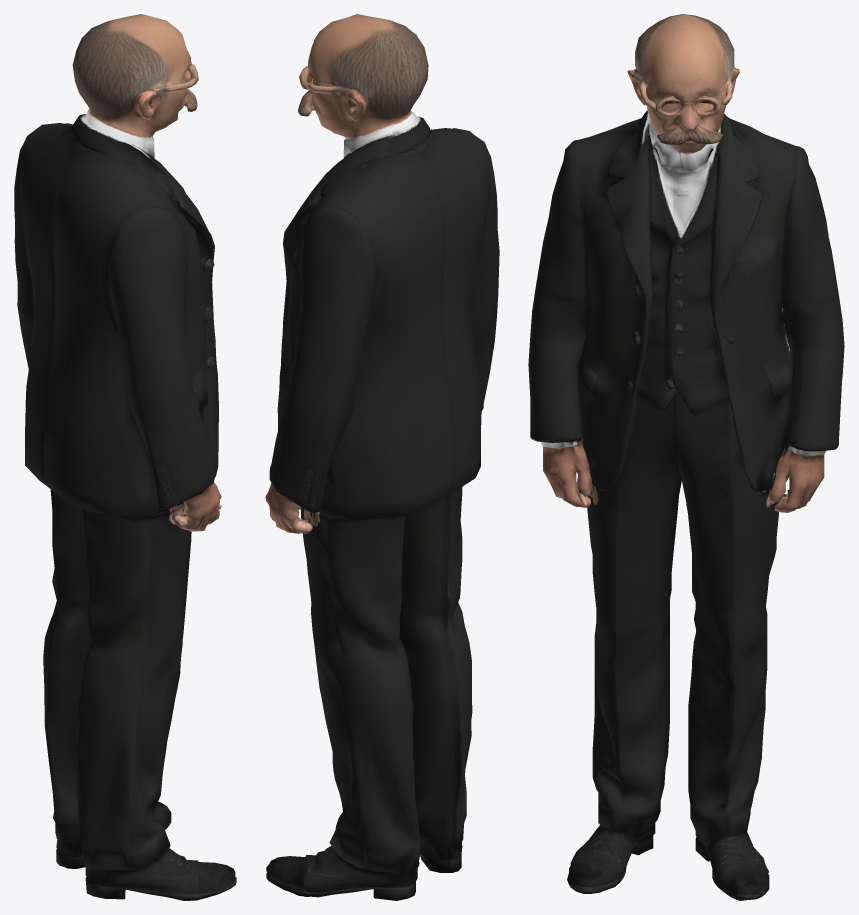
File: johann.glb
3 renders of one model, left to right at view 1: azimuth 30°, elevation 25°; view 2: azimuth 150°, elevation 25°; view 3: azimuth 270°, elevation 25°, orthographic.
Visible parts, largest first — view 1: tripo_node_4284baf8-cc29-4aae-9db0-f3c61e941796; view 2: tripo_node_4284baf8-cc29-4aae-9db0-f3c61e941796; view 3: tripo_node_4284baf8-cc29-4aae-9db0-f3c61e941796.
Boxes of the visible parts, x1=… form: tripo_node_4284baf8-cc29-4aae-9db0-f3c61e941796: x1=14, y1=14, x2=236, y2=900; tripo_node_4284baf8-cc29-4aae-9db0-f3c61e941796: x1=265, y1=14, x2=499, y2=900; tripo_node_4284baf8-cc29-4aae-9db0-f3c61e941796: x1=528, y1=14, x2=844, y2=900.
Size of the model in its own units: 0.1897 by 0.9771 by 0.3295.
1 material, 1 textured.
